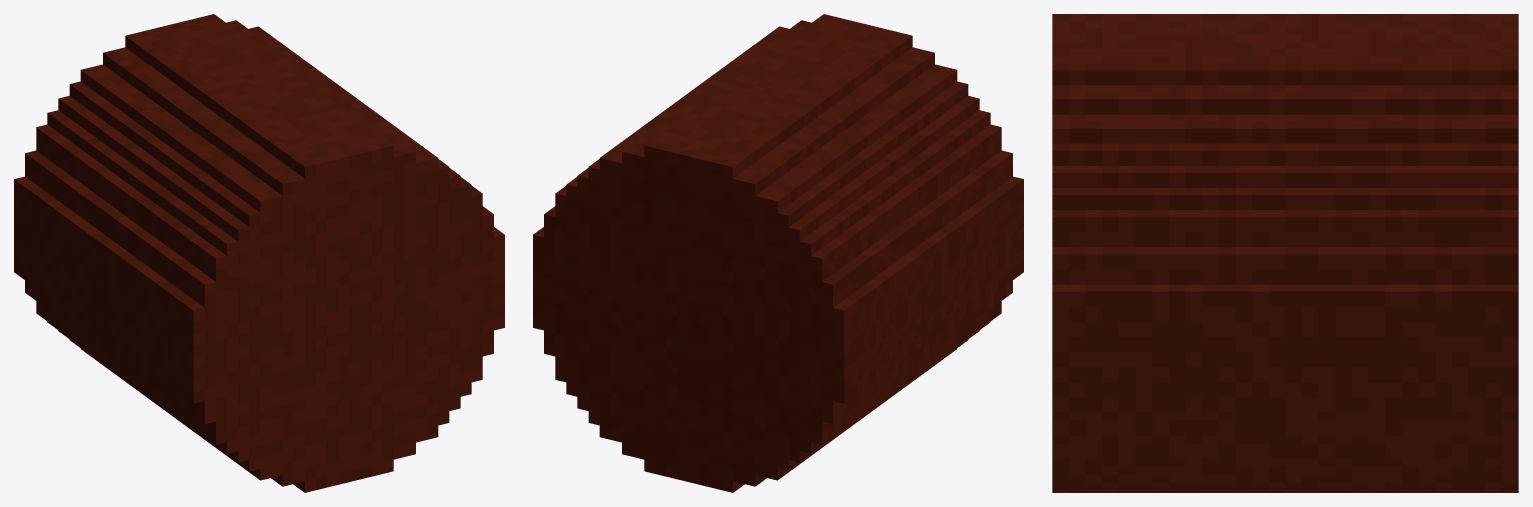
File: lvl1-39.obj
3 views of the same model, side by side, from view 1: azimuth 30°, elevation 25°; view 2: azimuth 150°, elevation 25°; view 3: azimuth 270°, elevation 25° (orthographic). The views are drawn at different scales.
Size of the model in its own units: 2.8 by 2.8 by 2.8.
Materials: 1 (1 with a texture image).
